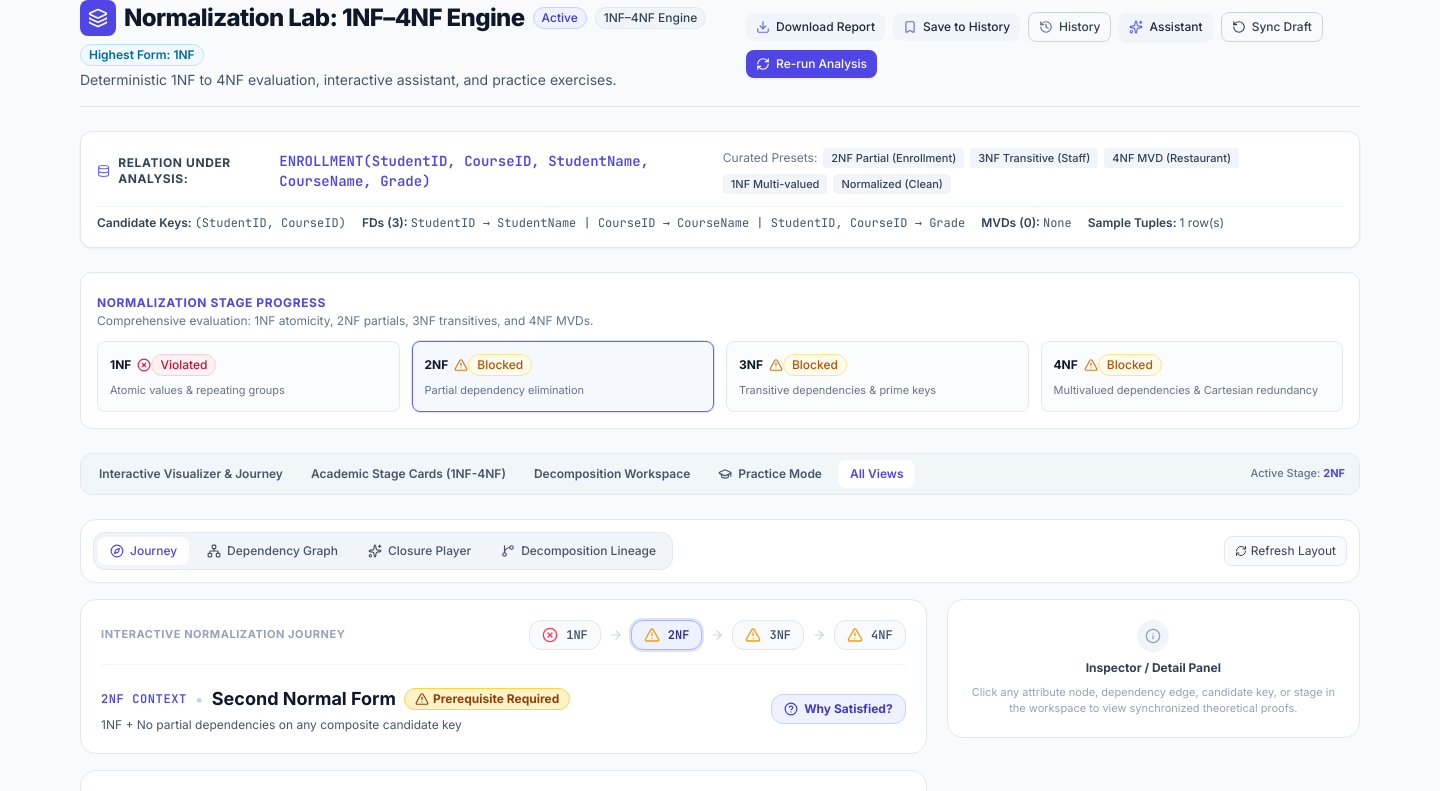
Scenario: NormalizationLab Component (Phase 6) › renders Third Normal Form (3NF) card when 3NF stage is clicked
Step 1. Click the button with test id "stage-step-3nf" → {"x": 815, "y": 365}, box [726,341,1028,412]
(page scrolled)
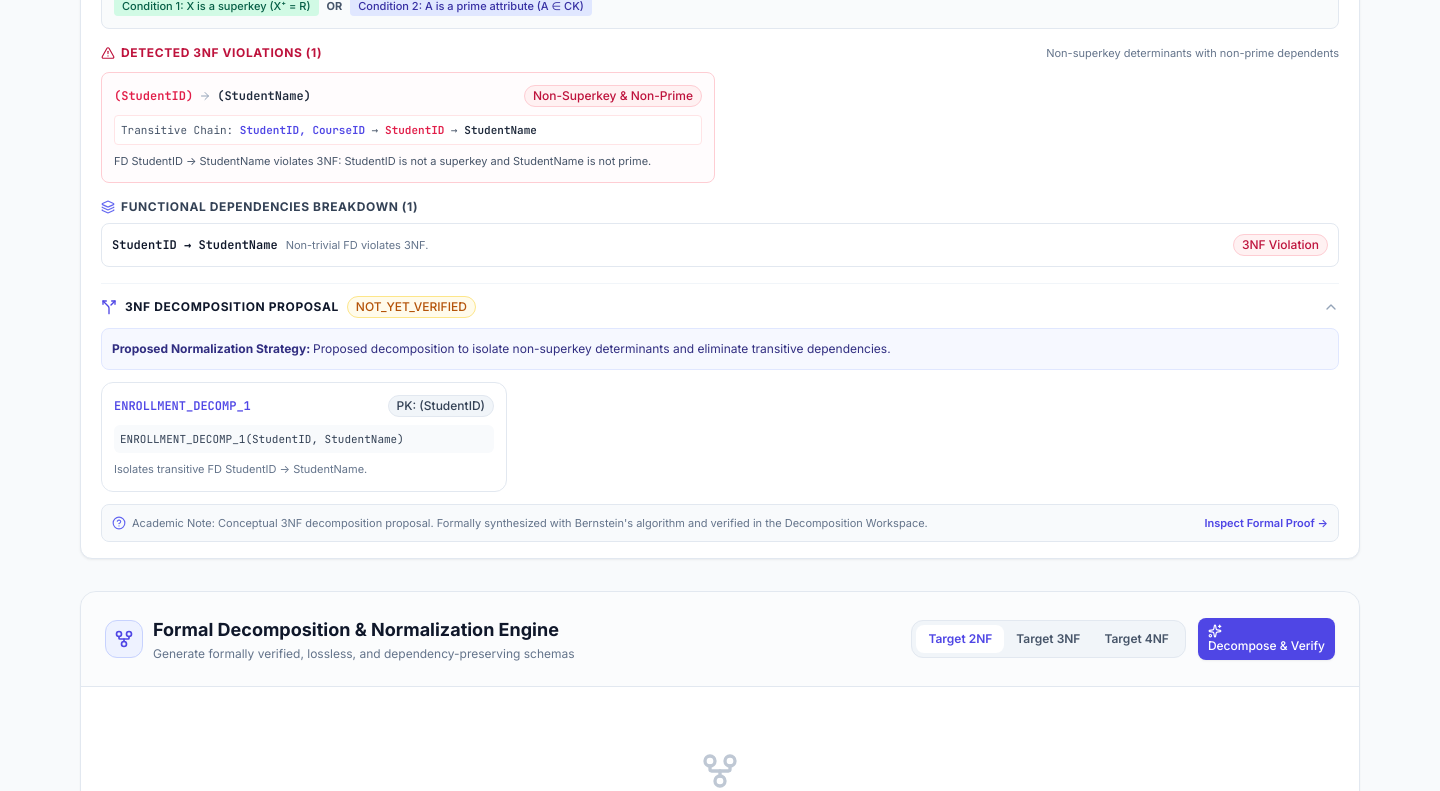
Result: the heading "Detected 3NF Violations (1)" is shown at [101,45,322,61]
Result: the text "ENROLLMENT_DECOMP_1" is shown at [114,398,251,414]
